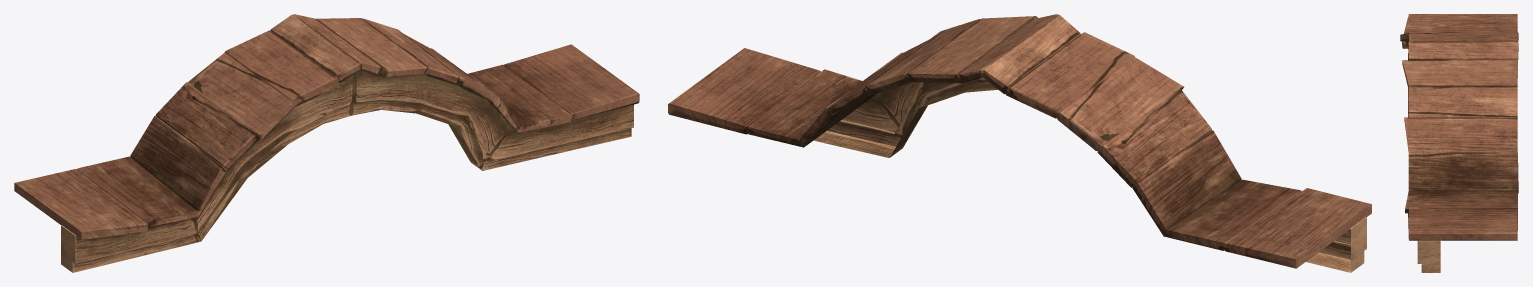
File: SM_Canopy.fbx
3 views of the same model, side by side, from view 1: azimuth 30°, elevation 25°; view 2: azimuth 150°, elevation 25°; view 3: azimuth 270°, elevation 25° (orthographic). The views are drawn at different scales.
Visible parts, largest first — view 1: SM_Canopy_LOD0; view 2: SM_Canopy_LOD0; view 3: SM_Canopy_LOD0.
Boxes of the visible parts, bbox=[...] form: SM_Canopy_LOD0: bbox=[14, 14, 639, 272]; SM_Canopy_LOD0: bbox=[668, 14, 1371, 272]; SM_Canopy_LOD0: bbox=[1400, 14, 1518, 272].
Size of the model in its own units: 836 by 189 by 210.
1 material, 1 textured.
